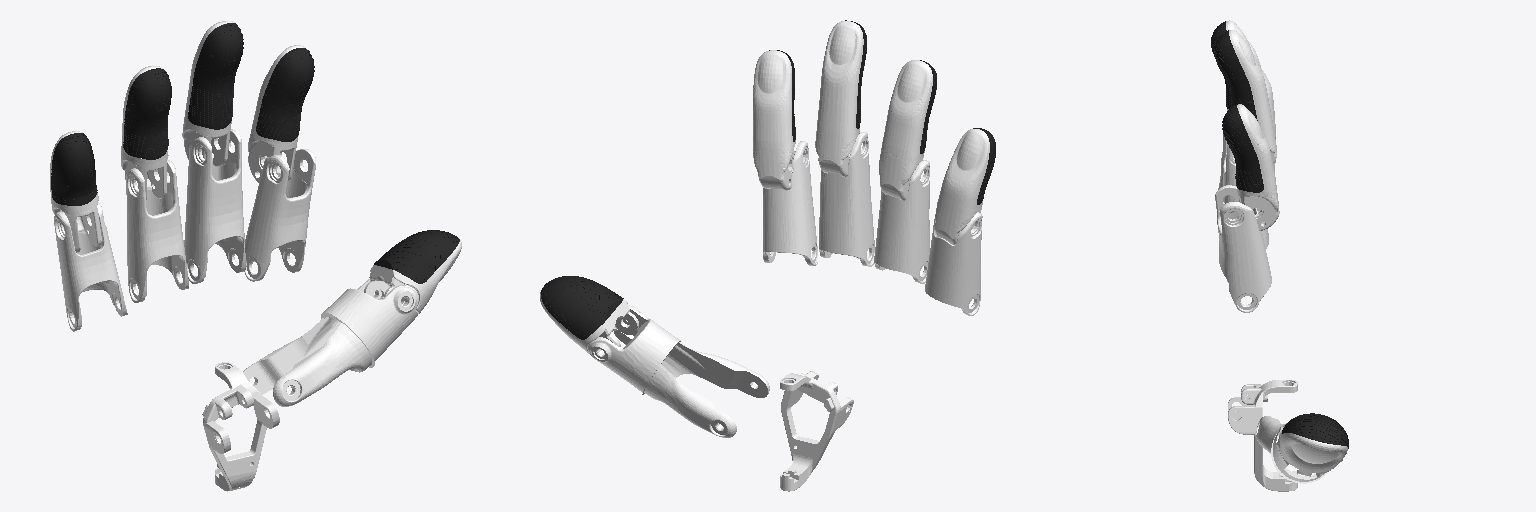
The robot description file, URDF, robot "DH116S-L000-A1":
<?xml version="1.0" encoding="utf-8"?>
<!-- This URDF was automatically created by SolidWorks to URDF Exporter! Originally created by [author] ([email redacted]) 
     Commit Version: 1.6.0-4-g7f85cfe  Build Version: 1.6.7995.38578
     For more information, please see http://wiki.ros.org/sw_urdf_exporter -->
<robot
  name="DH116S-L000-A1">
  <link
    name="base_link">
    <inertial>
      <origin
        xyz="0.00074258 -0.0074101 0.047286"
        rpy="0 0 0" />
      <mass
        value="0.10796" />
      <inertia
        ixx="4.6383E-05"
        ixy="-3.2407E-08"
        ixz="1.9335E-07"
        iyy="6.715E-05"
        iyz="1.5535E-06"
        izz="3.0034E-05" />
    </inertial>
    <visual>
      <origin
        xyz="0 0 0"
        rpy="0 0 0" />
      <geometry>
        <mesh
          filename="package://lhandpro_description/meshes/base_link.STL" />
      </geometry>
      <material
        name="">
        <color
          rgba="1 1 1 1" />
      </material>
    </visual>
    <collision>
      <origin
        xyz="0 0 0"
        rpy="0 0 0" />
      <geometry>
        <mesh
          filename="package://lhandpro_description/meshes/base_link.STL" />
      </geometry>
    </collision>
  </link>
  <link
    name="finger11_link">
    <inertial>
      <origin
        xyz="0.0084275 0.0014873 0.00095853"
        rpy="0 0 0" />
      <mass
        value="0.0027298" />
      <inertia
        ixx="3.5725E-07"
        ixy="-7.4158E-09"
        ixz="-3.5014E-08"
        iyy="3.2865E-07"
        iyz="-1.169E-08"
        izz="1.0938E-07" />
    </inertial>
    <visual>
      <origin
        xyz="0 0 0"
        rpy="0 0 0" />
      <geometry>
        <mesh
          filename="package://lhandpro_description/meshes/finger11_link.STL" />
      </geometry>
      <material
        name="">
        <color
          rgba="1 1 1 1" />
      </material>
    </visual>
    <collision>
      <origin
        xyz="0 0 0"
        rpy="0 0 0" />
      <geometry>
        <mesh
          filename="package://lhandpro_description/meshes/finger11_link.STL" />
      </geometry>
    </collision>
  </link>
  <joint
    name="finger11"
    type="revolute">
    <origin
      xyz="0.019352 0.0078052 0.03432"
      rpy="0 5.6618E-05 0" />
    <parent
      link="base_link" />
    <child
      link="finger11_link" />
    <axis
      xyz="0 0 1" />
    <limit
      lower="0"
      upper="1.92"
      effort="0"
      velocity="0" />
  </joint>
  <link
    name="finger12_link">
    <inertial>
      <origin
        xyz="-0.021058 0.028795 -0.019946"
        rpy="0 0 0" />
      <mass
        value="0.15692" />
      <inertia
        ixx="0.00030961"
        ixy="5.4172E-05"
        ixz="5.3321E-06"
        iyy="0.00013891"
        iyz="-3.9727E-05"
        izz="0.00022363" />
    </inertial>
    <visual>
      <origin
        xyz="0 0 0"
        rpy="0 0 0" />
      <geometry>
        <mesh
          filename="package://lhandpro_description/meshes/finger12_link.STL" />
      </geometry>
      <material
        name="">
        <color
          rgba="1 1 1 1" />
      </material>
    </visual>
    <collision>
      <origin
        xyz="0 0 0"
        rpy="0 0 0" />
      <geometry>
        <mesh
          filename="package://lhandpro_description/meshes/finger12_link.STL" />
      </geometry>
    </collision>
  </link>
  <joint
    name="finger12"
    type="revolute">
    <origin
      xyz="0.015 0.0024172 0.0067143"
      rpy="1.1789 0.2618 1.5708" />
    <parent
      link="finger11_link" />
    <child
      link="finger12_link" />
    <axis
      xyz="-1 0 0" />
    <limit
      lower="0"
      upper="1.04"
      effort="0"
      velocity="0" />
  </joint>
  <link
    name="finger13_link">
    <inertial>
      <origin
        xyz="2.0798E-05 -0.0010263 0.0087715"
        rpy="0 0 0" />
      <mass
        value="0.0051235" />
      <inertia
        ixx="2.4095E-07"
        ixy="-4.7789E-10"
        ixz="-9.7647E-10"
        iyy="3.0808E-07"
        iyz="-2.5035E-09"
        izz="1.6137E-07" />
    </inertial>
    <visual>
      <origin
        xyz="0 0 0"
        rpy="0 0 0" />
      <geometry>
        <mesh
          filename="package://lhandpro_description/meshes/finger13_link.STL" />
      </geometry>
      <material
        name="">
        <color
          rgba="1 1 1 1" />
      </material>
    </visual>
    <collision>
      <origin
        xyz="0 0 0"
        rpy="0 0 0" />
      <geometry>
        <mesh
          filename="package://lhandpro_description/meshes/finger13_link.STL" />
      </geometry>
    </collision>
  </link>
  <joint
    name="finger13"
    type="revolute">
    <origin
      xyz="0 0 0.040273"
      rpy="0 0 0" />
    <parent
      link="finger12_link" />
    <child
      link="finger13_link" />
    <axis
      xyz="-1 0 0" />
    <limit
      lower="0"
      upper="1.57"
      effort="0"
      velocity="0" />
  </joint>
  <link
    name="finger14_link">
    <inertial>
      <origin
        xyz="-3.8304E-06 0.0042573 0.012288"
        rpy="0 0 0" />
      <mass
        value="0.0024051" />
      <inertia
        ixx="6.5145E-08"
        ixy="-3.3333E-10"
        ixz="-5.3723E-10"
        iyy="9.9513E-08"
        iyz="4.5334E-09"
        izz="5.5445E-08" />
    </inertial>
    <visual>
      <origin
        xyz="0 0 0"
        rpy="0 0 0" />
      <geometry>
        <mesh
          filename="package://lhandpro_description/meshes/finger14_link.STL" />
      </geometry>
      <material
        name="">
        <color
          rgba="0.2 0.2 0.2 1" />
      </material>
    </visual>
    <collision>
      <origin
        xyz="0 0 0"
        rpy="0 0 0" />
      <geometry>
        <mesh
          filename="package://lhandpro_description/meshes/finger14_link.STL" />
      </geometry>
    </collision>
  </link>
  <joint
    name="finger14"
    type="fixed">
    <origin
      xyz="0 0 0"
      rpy="0 0 0" />
    <parent
      link="finger13_link" />
    <child
      link="finger14_link" />
    <axis
      xyz="0 0 0" />
  </joint>
  <link
    name="finger21_link">
    <inertial>
      <origin
        xyz="3.7099E-06 -0.00011919 0.014618"
        rpy="0 0 0" />
      <mass
        value="0.003938" />
      <inertia
        ixx="3.1596E-07"
        ixy="-4.1456E-11"
        ixz="-5.5676E-11"
        iyy="3.4221E-07"
        iyz="-2.8999E-08"
        izz="1.5546E-07" />
    </inertial>
    <visual>
      <origin
        xyz="0 0 0"
        rpy="0 0 0" />
      <geometry>
        <mesh
          filename="package://lhandpro_description/meshes/finger21_link.STL" />
      </geometry>
      <material
        name="">
        <color
          rgba="1 1 1 1" />
      </material>
    </visual>
    <collision>
      <origin
        xyz="0 0 0"
        rpy="0 0 0" />
      <geometry>
        <mesh
          filename="package://lhandpro_description/meshes/finger21_link.STL" />
      </geometry>
    </collision>
  </link>
  <joint
    name="finger21"
    type="revolute">
    <origin
      xyz="0.026322 -0.0053264 0.083909"
      rpy="0.015713 0.09766 0.15979" />
    <parent
      link="base_link" />
    <child
      link="finger21_link" />
    <axis
      xyz="-1 0 0" />
    <limit
      lower="0"
      upper="1.57"
      effort="0"
      velocity="0" />
  </joint>
  <link
    name="finger22_link">
    <inertial>
      <origin
        xyz="3.4856E-05 -0.0023817 0.010735"
        rpy="0 0 0" />
      <mass
        value="0.0035951" />
      <inertia
        ixx="3.7147E-07"
        ixy="7.6809E-11"
        ixz="-2.1746E-09"
        iyy="3.7949E-07"
        iyz="-1.1538E-08"
        izz="5.7613E-08" />
    </inertial>
    <visual>
      <origin
        xyz="0 0 0"
        rpy="0 0 0" />
      <geometry>
        <mesh
          filename="package://lhandpro_description/meshes/finger22_link.STL" />
      </geometry>
      <material
        name="">
        <color
          rgba="1 1 1 1" />
      </material>
    </visual>
    <collision>
      <origin
        xyz="0 0 0"
        rpy="0 0 0" />
      <geometry>
        <mesh
          filename="package://lhandpro_description/meshes/finger22_link.STL" />
      </geometry>
    </collision>
  </link>
  <joint
    name="finger22"
    type="revolute">
    <origin
      xyz="0 0.0030778 0.027857"
      rpy="-0.11004 0 0" />
    <parent
      link="finger21_link" />
    <child
      link="finger22_link" />
    <axis
      xyz="-1 0 0" />
    <limit
      lower="0"
      upper="1.57"
      effort="0"
      velocity="0" />
  </joint>
  <link
    name="finger23_link">
    <inertial>
      <origin
        xyz="7.8368E-05 0.0020018 0.019395"
        rpy="0 0 0" />
      <mass
        value="0.0019493" />
      <inertia
        ixx="9.2479E-08"
        ixy="3.0475E-11"
        ixz="-2.7428E-11"
        iyy="9.8313E-08"
        iyz="-1.5567E-08"
        izz="2.6652E-08" />
    </inertial>
    <visual>
      <origin
        xyz="0 0 0"
        rpy="0 0 0" />
      <geometry>
        <mesh
          filename="package://lhandpro_description/meshes/finger23_link.STL" />
      </geometry>
      <material
        name="">
        <color
          rgba="0.2 0.2 0.2 1" />
      </material>
    </visual>
    <collision>
      <origin
        xyz="0 0 0"
        rpy="0 0 0" />
      <geometry>
        <mesh
          filename="package://lhandpro_description/meshes/finger23_link.STL" />
      </geometry>
    </collision>
  </link>
  <joint
    name="finger23"
    type="fixed">
    <origin
      xyz="0 0 0"
      rpy="0 0 0" />
    <parent
      link="finger22_link" />
    <child
      link="finger23_link" />
    <axis
      xyz="0 0 0" />
  </joint>
  <link
    name="finger31_link">
    <inertial>
      <origin
        xyz="2.5591E-06 8.5087E-05 0.016695"
        rpy="0 0 0" />
      <mass
        value="0.0046564" />
      <inertia
        ixx="4.6404E-07"
        ixy="-6.6121E-11"
        ixz="-4.4012E-11"
        iyy="4.9011E-07"
        iyz="-4.5262E-08"
        izz="1.8452E-07" />
    </inertial>
    <visual>
      <origin
        xyz="0 0 0"
        rpy="0 0 0" />
      <geometry>
        <mesh
          filename="package://lhandpro_description/meshes/finger31_link.STL" />
      </geometry>
      <material
        name="">
        <color
          rgba="1 1 1 1" />
      </material>
    </visual>
    <collision>
      <origin
        xyz="0 0 0"
        rpy="0 0 0" />
      <geometry>
        <mesh
          filename="package://lhandpro_description/meshes/finger31_link.STL" />
      </geometry>
    </collision>
  </link>
  <joint
    name="finger31"
    type="revolute">
    <origin
      xyz="0.0085306 -0.006534 0.088185"
      rpy="0.00071294 0.013408 0.053126" />
    <parent
      link="base_link" />
    <child
      link="finger31_link" />
    <axis
      xyz="-1 0 0" />
    <limit
      lower="0"
      upper="1.57"
      effort="0"
      velocity="0" />
  </joint>
  <link
    name="finger32_link">
    <inertial>
      <origin
        xyz="5.3761E-07 -1.2538E-05 0.012568"
        rpy="0 0 0" />
      <mass
        value="0.0039652" />
      <inertia
        ixx="5.1368E-07"
        ixy="-4.1127E-10"
        ixz="-1.5216E-09"
        iyy="5.0101E-07"
        iyz="-1.0082E-07"
        izz="8.7117E-08" />
    </inertial>
    <visual>
      <origin
        xyz="0 0 0"
        rpy="0 0 0" />
      <geometry>
        <mesh
          filename="package://lhandpro_description/meshes/finger32_link.STL" />
      </geometry>
      <material
        name="">
        <color
          rgba="1 1 1 1" />
      </material>
    </visual>
    <collision>
      <origin
        xyz="0 0 0"
        rpy="0 0 0" />
      <geometry>
        <mesh
          filename="package://lhandpro_description/meshes/finger32_link.STL" />
      </geometry>
    </collision>
  </link>
  <joint
    name="finger32"
    type="revolute">
    <origin
      xyz="0 0.0037175 0.032318"
      rpy="0 0 0" />
    <parent
      link="finger31_link" />
    <child
      link="finger32_link" />
    <axis
      xyz="-1 0 0" />
    <limit
      lower="0"
      upper="1.57"
      effort="0"
      velocity="0" />
  </joint>
  <link
    name="finger33_link">
    <inertial>
      <origin
        xyz="-2.1786E-06 0.0059988 0.02098"
        rpy="0 0 0" />
      <mass
        value="0.0022728" />
      <inertia
        ixx="1.4797E-07"
        ixy="1.6047E-11"
        ixz="-8.1878E-13"
        iyy="1.4043E-07"
        iyz="-4.353E-08"
        izz="4.3712E-08" />
    </inertial>
    <visual>
      <origin
        xyz="0 0 0"
        rpy="0 0 0" />
      <geometry>
        <mesh
          filename="package://lhandpro_description/meshes/finger33_link.STL" />
      </geometry>
      <material
        name="">
        <color
          rgba="0.2 0.2 0.2 1" />
      </material>
    </visual>
    <collision>
      <origin
        xyz="0 0 0"
        rpy="0 0 0" />
      <geometry>
        <mesh
          filename="package://lhandpro_description/meshes/finger33_link.STL" />
      </geometry>
    </collision>
  </link>
  <joint
    name="finger33"
    type="fixed">
    <origin
      xyz="0 0 0"
      rpy="0 0 0" />
    <parent
      link="finger32_link" />
    <child
      link="finger33_link" />
    <axis
      xyz="0 0 0" />
  </joint>
  <link
    name="finger41_link">
    <inertial>
      <origin
        xyz="2.0328E-06 -0.00060204 0.014928"
        rpy="0 0 0" />
      <mass
        value="0.0041427" />
      <inertia
        ixx="3.621E-07"
        ixy="-4.6417E-11"
        ixz="-4.1481E-11"
        iyy="3.8957E-07"
        iyz="-3.1589E-08"
        izz="1.6169E-07" />
    </inertial>
    <visual>
      <origin
        xyz="0 0 0"
        rpy="0 0 0" />
      <geometry>
        <mesh
          filename="package://lhandpro_description/meshes/finger41_link.STL" />
      </geometry>
      <material
        name="">
        <color
          rgba="1 1 1 1" />
      </material>
    </visual>
    <collision>
      <origin
        xyz="0 0 0"
        rpy="0 0 0" />
      <geometry>
        <mesh
          filename="package://lhandpro_description/meshes/finger41_link.STL" />
      </geometry>
    </collision>
  </link>
  <joint
    name="finger41"
    type="revolute">
    <origin
      xyz="-0.0088876 -0.0072813 0.087396"
      rpy="0.0030266 -0.061554 -0.049162" />
    <parent
      link="base_link" />
    <child
      link="finger41_link" />
    <axis
      xyz="-1 0 0" />
    <limit
      lower="0"
      upper="1.57"
      effort="0"
      velocity="0" />
  </joint>
  <link
    name="finger42_link">
    <inertial>
      <origin
        xyz="2.8428E-05 -0.001525 0.011155"
        rpy="0 0 0" />
      <mass
        value="0.0038285" />
      <inertia
        ixx="3.9947E-07"
        ixy="-3.73E-11"
        ixz="-2.2809E-09"
        iyy="4.0449E-07"
        iyz="-3.5369E-08"
        izz="6.5075E-08" />
    </inertial>
    <visual>
      <origin
        xyz="0 0 0"
        rpy="0 0 0" />
      <geometry>
        <mesh
          filename="package://lhandpro_description/meshes/finger42_link.STL" />
      </geometry>
      <material
        name="">
        <color
          rgba="1 1 1 1" />
      </material>
    </visual>
    <collision>
      <origin
        xyz="0 0 0"
        rpy="0 0 0" />
      <geometry>
        <mesh
          filename="package://lhandpro_description/meshes/finger42_link.STL" />
      </geometry>
    </collision>
  </link>
  <joint
    name="finger42"
    type="revolute">
    <origin
      xyz="0 0.0025283 0.02942"
      rpy="0 0 0" />
    <parent
      link="finger41_link" />
    <child
      link="finger42_link" />
    <axis
      xyz="-1 0 0" />
    <limit
      lower="0"
      upper="1.57"
      effort="0"
      velocity="0" />
  </joint>
  <link
    name="finger43_link">
    <inertial>
      <origin
        xyz="8.2647E-05 0.0034199 0.020014"
        rpy="0 0 0" />
      <mass
        value="0.0019493" />
      <inertia
        ixx="9.2476E-08"
        ixy="4.4007E-11"
        ixz="-6.2162E-11"
        iyy="9.5853E-08"
        iyz="-2.0306E-08"
        izz="2.9109E-08" />
    </inertial>
    <visual>
      <origin
        xyz="0 0 0"
        rpy="0 0 0" />
      <geometry>
        <mesh
          filename="package://lhandpro_description/meshes/finger43_link.STL" />
      </geometry>
      <material
        name="">
        <color
          rgba="0.2 0.2 0.2 1" />
      </material>
    </visual>
    <collision>
      <origin
        xyz="0 0 0"
        rpy="0 0 0" />
      <geometry>
        <mesh
          filename="package://lhandpro_description/meshes/finger43_link.STL" />
      </geometry>
    </collision>
  </link>
  <joint
    name="finger43"
    type="fixed">
    <origin
      xyz="0 0 0"
      rpy="0 0 0" />
    <parent
      link="finger42_link" />
    <child
      link="finger43_link" />
    <axis
      xyz="0 0 0" />
  </joint>
  <link
    name="finger51_link">
    <inertial>
      <origin
        xyz="0 0 0"
        rpy="0 0 0" />
      <mass
        value="0.0041427" />
      <inertia
        ixx="3.621E-07"
        ixy="-4.6417E-11"
        ixz="-4.1481E-11"
        iyy="3.8957E-07"
        iyz="-3.1589E-08"
        izz="1.6169E-07" />
    </inertial>
    <visual>
      <origin
        xyz="0 0 0"
        rpy="0 0 0" />
      <geometry>
        <mesh
          filename="package://lhandpro_description/meshes/finger51_link.STL" />
      </geometry>
      <material
        name="">
        <color
          rgba="1 1 1 1" />
      </material>
    </visual>
    <collision>
      <origin
        xyz="0 0 0"
        rpy="0 0 0" />
      <geometry>
        <mesh
          filename="package://lhandpro_description/meshes/finger51_link.STL" />
      </geometry>
    </collision>
  </link>
  <joint
    name="finger51"
    type="revolute">
    <origin
      xyz="-0.026448 -0.0055489 0.08298"
      rpy="-0.074855 -0.15057 -0.14704" />
    <parent
      link="base_link" />
    <child
      link="finger51_link" />
    <axis
      xyz="-1 0 0" />
    <limit
      lower="0"
      upper="1.57"
      effort="0"
      velocity="0" />
  </joint>
  <link
    name="finger52_link">
    <inertial>
      <origin
        xyz="3.1581E-05 -0.0009964 0.0084913"
        rpy="0 0 0" />
      <mass
        value="0.0034586" />
      <inertia
        ixx="2.5318E-07"
        ixy="-6.386E-11"
        ixz="-1.0687E-09"
        iyy="2.5376E-07"
        iyz="-2.5784E-08"
        izz="6.4634E-08" />
    </inertial>
    <visual>
      <origin
        xyz="0 0 0"
        rpy="0 0 0" />
      <geometry>
        <mesh
          filename="package://lhandpro_description/meshes/finger52_link.STL" />
      </geometry>
      <material
        name="">
        <color
          rgba="1 1 1 1" />
      </material>
    </visual>
    <collision>
      <origin
        xyz="0 0 0"
        rpy="0 0 0" />
      <geometry>
        <mesh
          filename="package://lhandpro_description/meshes/finger52_link.STL" />
      </geometry>
    </collision>
  </link>
  <joint
    name="finger52"
    type="revolute">
    <origin
      xyz="0 0 0.025024"
      rpy="0.097068 0 0" />
    <parent
      link="finger51_link" />
    <child
      link="finger52_link" />
    <axis
      xyz="-1 0 0" />
    <limit
      lower="0"
      upper="1.57"
      effort="0"
      velocity="0" />
  </joint>
  <link
    name="finger53_link">
    <inertial>
      <origin
        xyz="0.00010532 0.0043692 0.016718"
        rpy="0 0 0" />
      <mass
        value="0.0014962" />
      <inertia
        ixx="4.394E-08"
        ixy="4.4189E-11"
        ixz="2.3366E-10"
        iyy="4.5405E-08"
        iyz="-1.0753E-08"
        izz="2.1333E-08" />
    </inertial>
    <visual>
      <origin
        xyz="0 0 0"
        rpy="0 0 0" />
      <geometry>
        <mesh
          filename="package://lhandpro_description/meshes/finger53_link.STL" />
      </geometry>
      <material
        name="">
        <color
          rgba="0.2 0.2 0.2 1" />
      </material>
    </visual>
    <collision>
      <origin
        xyz="0 0 0"
        rpy="0 0 0" />
      <geometry>
        <mesh
          filename="package://lhandpro_description/meshes/finger53_link.STL" />
      </geometry>
    </collision>
  </link>
  <joint
    name="finger53"
    type="fixed">
    <origin
      xyz="0 0 0"
      rpy="0 0 0" />
    <parent
      link="finger52_link" />
    <child
      link="finger53_link" />
    <axis
      xyz="0 0 0" />
  </joint>
</robot>

--- What the picture shows (computed from the rendered views, not written in the file) ---
3 views of the same robot in one strip: view 1: azimuth 30°, elevation 25°; view 2: azimuth 150°, elevation 25°; view 3: azimuth 270°, elevation 25° (orthographic).
Robot: DH116S-L000-A1 — 17 links, 16 joints (11 revolute, 5 fixed); root link base_link; default pose: all joints at 0.
Visible links, largest first — view 1: finger12_link, finger31_link, finger21_link, finger41_link, finger11_link, finger51_link, finger33_link, finger43_link, finger23_link, finger53_link, finger14_link, finger13_link (+4 smaller); view 2: finger12_link, finger32_link, finger31_link, finger22_link, finger42_link, finger41_link, finger21_link, finger51_link, finger11_link, finger52_link, finger14_link, finger13_link; view 3: finger21_link, finger11_link, finger22_link, finger23_link, finger13_link, finger32_link, finger33_link, finger14_link, finger12_link, finger31_link.
Boxes of the visible links, x1,y1,x2,y2 form: finger12_link: (243,279,418,406); finger31_link: (184,129,245,283); finger21_link: (244,149,315,281); finger41_link: (126,159,188,302); finger11_link: (202,362,279,491); finger51_link: (54,202,127,331); finger33_link: (188,23,243,129); finger43_link: (123,68,171,159); finger23_link: (256,48,314,141); finger53_link: (51,133,97,205); finger14_link: (374,230,459,283); finger13_link: (364,240,461,313); finger12_link: (588,304,769,437); finger32_link: (815,21,863,176); finger31_link: (819,132,874,266); finger22_link: (753,50,795,190); finger42_link: (879,60,932,200); finger41_link: (874,160,929,283); finger21_link: (763,141,817,265); finger51_link: (925,212,982,315); finger11_link: (780,371,853,491); finger52_link: (935,129,989,244); finger14_link: (541,276,623,339); finger13_link: (540,292,638,356); finger21_link: (1215,185,1271,312); finger11_link: (1228,380,1297,491); finger22_link: (1236,104,1279,230); finger23_link: (1222,105,1263,192); finger13_link: (1280,433,1347,476); finger32_link: (1229,30,1276,163); finger33_link: (1214,30,1257,120); finger14_link: (1282,413,1348,448); finger12_link: (1256,416,1342,483); finger31_link: (1223,140,1268,248).
Bounding box of the posed robot: 0.1327 × 0.0397 × 0.1401 m (x, y, z).
Meshes: 17 distinct files referenced, 16 mesh visuals loaded (16 binary STL); not drawn: 1 (reference not matched to a file when rendering).